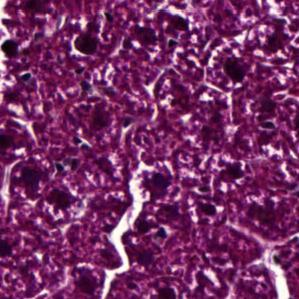inflammation: (192, 152, 251, 199), (127, 160, 184, 201), (213, 44, 262, 88), (6, 155, 49, 202), (149, 3, 194, 46), (68, 22, 109, 59)
